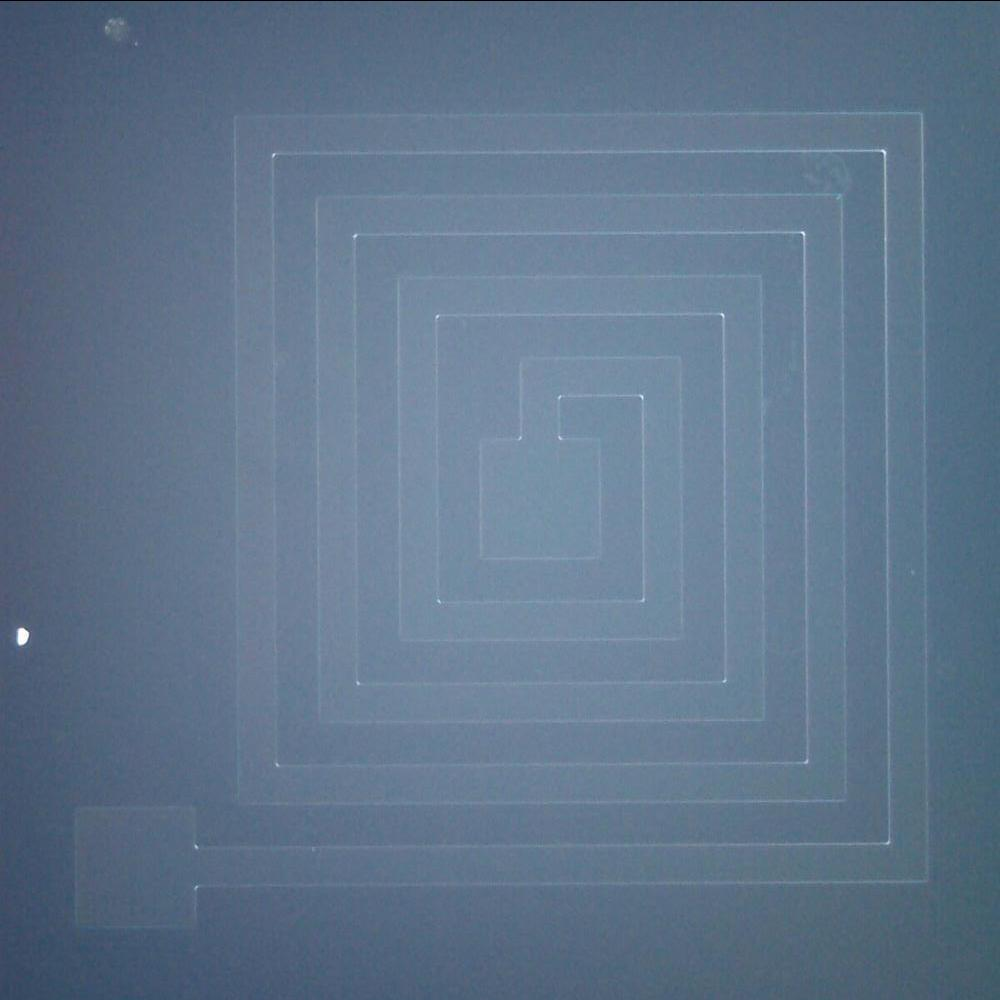spot: (12, 621, 36, 651)
